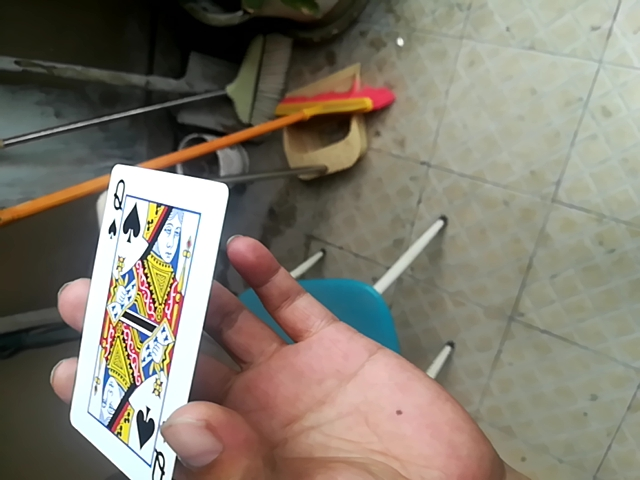ht q: (74, 163, 235, 479)
